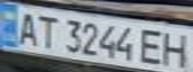2: (78, 19, 100, 56)
3: (60, 17, 84, 54)
4: (96, 21, 121, 60), (115, 24, 139, 62)
A: (12, 8, 42, 46)
E: (136, 27, 169, 65)
H: (157, 29, 193, 70)
T: (33, 12, 60, 50)
